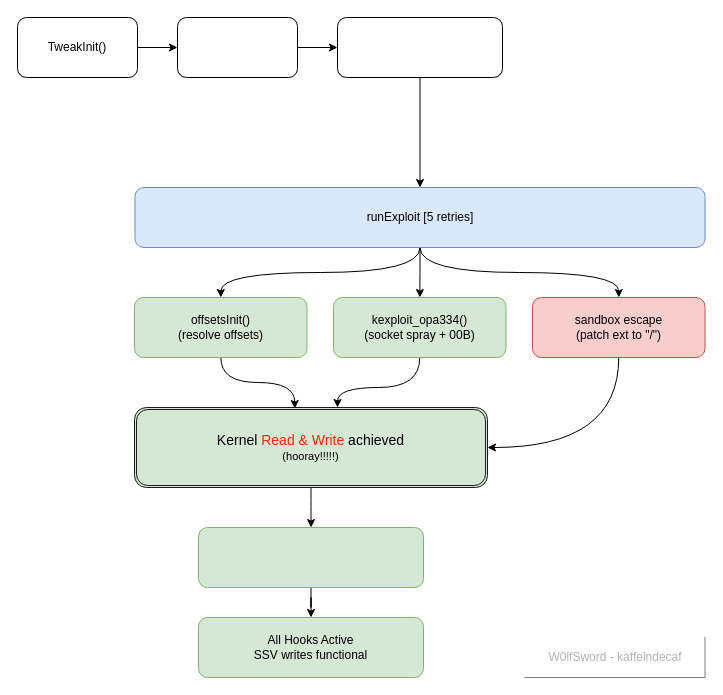
This 723x695 diagram has some shape labels left out. The shapes that lost their labels are listed below. From the top down, each one's centre as x and y in pixels, then its label:
At point (237, 47): "installHooks()".
At point (419, 47): "scheduleExploitOnce [1 sec]".
At point (311, 557): "patch_sandbox_ext (SSV write + 4 daemon borrow)".
